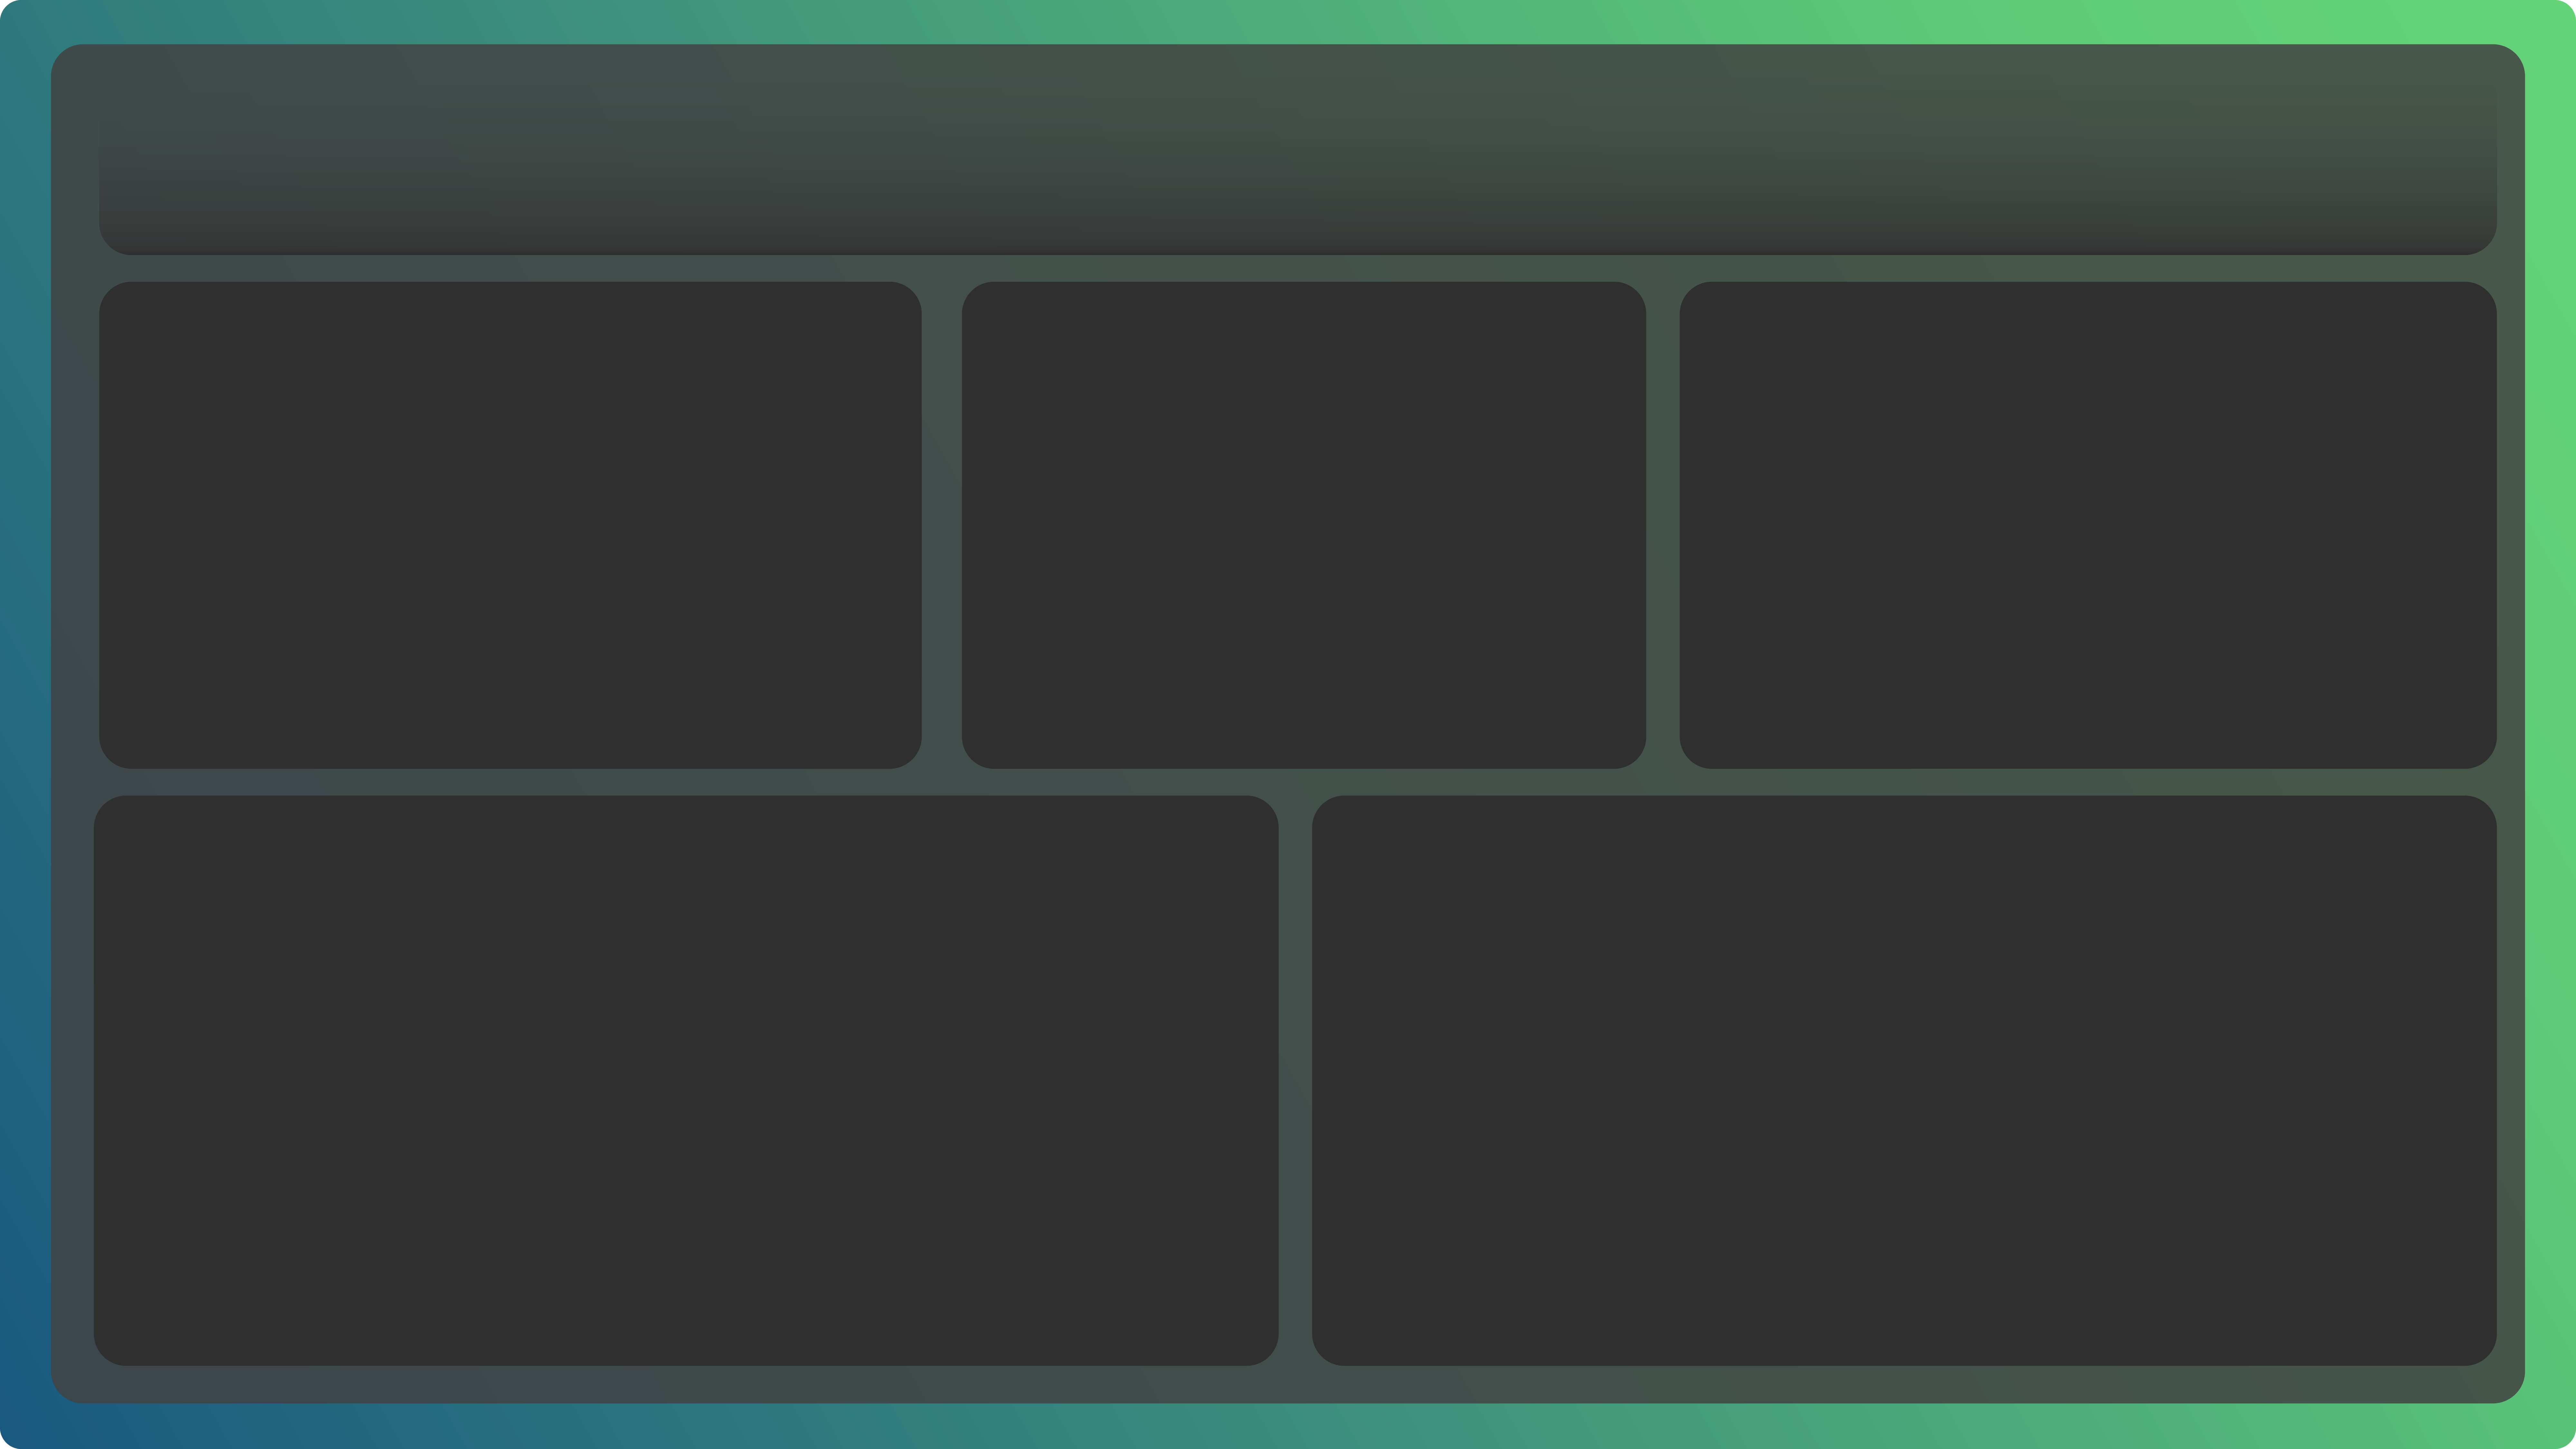

The page's visual inventory and layout, read from the dashboard file:
{"tool":"tableau","page":{"name":"viz","canvas":[1450,950],"ordinal":0},"visuals":[{"type":"image","param":"Image/Dashboard @2x.png","box":[0,0,1450,950]},{"type":"image","param":"Image/Heading @2x.png","box":[85,80,494,50]},{"type":"blank","box":[579,80,362,50]},{"type":"text","box":[941,80,150,25]},{"type":"blank","box":[1091,80,30,50]},{"type":"image","param":"Image/Logo (1).png","box":[1121,80,244,25]},{"type":"worksheet","title":"Toggle Switch","mark":"Shape","rows":["Calculation_66428104941862918"],"box":[941,105,50,25]},{"type":"blank","box":[991,105,100,25]},{"type":"text","box":[1121,105,244,25]},{"type":"text","box":[90,180,110,30]},{"type":"worksheet","title":"Date indicator","mark":"Text","box":[200,180,380,30]},{"type":"text","box":[640,180,338,30]},{"type":"text","box":[978,180,382,30]},{"type":"blank","box":[90,210,490,10]},{"type":"worksheet","title":"Gender","mark":"Pie","rows":["Gender"],"cols":["Calculation_969681346415046657","Calculation_969681346415046657"],"box":[640,210,170,230]},{"type":"blank","box":[810,210,17,230]},{"type":"blank","box":[1057,210,22,230]},{"type":"image","param":"Image/a.png","box":[110,220,40,70]},{"type":"worksheet","title":"KPI 1","mark":"Text","box":[150,220,117,70]},{"type":"image","param":"Image/b.png","box":[267,220,40,70]},{"type":"worksheet","title":"KPI 2","mark":"Text","box":[307,220,117,70]},{"type":"image","param":"Image/c.png","box":[424,220,40,70]},{"type":"worksheet","title":"KPI 3","mark":"Text","box":[464,220,116,70]},{"type":"text","box":[832,220,220,25]},{"type":"worksheet","title":"Education Header","mark":"Text","box":[1089,220,178,25]},{"type":"parameter","param":"[Parameters].[Parameter 2]","box":[1267,220,83,25]},{"type":"worksheet","title":"Age Group","mark":"Bar","rows":["EmployeeCount"],"box":[832,245,220,185]},{"type":"worksheet","title":"Education","mark":"Bar","rows":["Calculation_635570549120753665","Calculation_969681346417168386"],"cols":["vtmin"],"box":[1089,250,260,185]},{"type":"worksheet","title":"Education (A)","mark":"Bar","rows":["Calculation_635570549120753665","Calculation_969681346417168386"],"cols":["vtmin"],"box":[1349,250,1,185]},{"type":"blank","box":[90,290,490,21]},{"type":"worksheet","title":"Department","mark":"Pie","rows":["Department"],"cols":["Calculation_635570549245562889","Calculation_635570549245562889"],"box":[90,311,187,249]},{"type":"blank","box":[277,311,12,249]},{"type":"text","box":[299,321,174,29]},{"type":"parameter","param":"[Parameters].[Parameter 3]","box":[473,321,97,29]},{"type":"worksheet","title":"Job Role","mark":"Shape","rows":["JobRole"],"cols":["Calculation_969681346417168386"],"box":[299,350,271,200]},{"type":"text","box":[640,500,250,30]},{"type":"worksheet","title":"Satisfaction Score- Info","mark":"Shape","cols":["Calculation_17170025537437710"],"box":[890,500,30,30]},{"type":"text","box":[980,500,380,30]},{"type":"worksheet","title":"Satisfaction Score Header","mark":"Text","rows":["Calculation_1632554917652107265"],"cols":["EnvironmentSatisfaction"],"box":[640,530,280,25]},{"type":"text","box":[980,530,56,27]},{"type":"filter","title":"Attrition Detail","param":"[federated.05j07o51a9v3ul13aijys15hxtp7].[none:Calculation_635570549291978795:nk","box":[1036,530,106.5,27]},{"type":"blank","box":[1142.5,530,32,27]},{"type":"text","box":[1174.5,530,79,27]},{"type":"filter","title":"Attrition Detail","param":"[federated.05j07o51a9v3ul13aijys15hxtp7].[my:Attrition Date:ok]","box":[1253.5,530,106.5,27]},{"type":"worksheet","title":"Attrition Detail","mark":"Text","rows":["EmployeeNumber","Attrition Date"],"cols":["Calculation_635570549295177775","Calculation_635570549299482675","Calculation_635570549295177775"],"box":[980,557,380,303]},{"type":"blank","box":[90,560,490,20]},{"type":"worksheet","title":"Environment Satisfaction ","mark":"Square","rows":["Calculation_635570549282226201"],"cols":["EnvironmentSatisfaction"],"box":[646,561,268,49]},{"type":"text","box":[100,590,265,25]},{"type":"text","box":[365,590,95,25]},{"type":"worksheet","title":"Trend - Toggle Buttons","mark":"Shape","cols":["Period Selector"],"box":[460,590,110,25]},{"type":"worksheet","title":"Trend - % Difference","mark":"Text","box":[100,615,470,25]},{"type":"worksheet","title":"Job Satisfaction ","mark":"Square","rows":["Calculation_1632554917660635139"],"cols":["JobSatisfaction"],"box":[646,622,268,49]},{"type":"worksheet","title":"Attrition Trend- M","mark":"Bar","rows":["EmployeeCount"],"cols":["Attrition Date"],"box":[100,645,467,173]},{"type":"worksheet","title":"Attrition Trend- Y","mark":"Bar","rows":["EmployeeCount"],"cols":["Attrition Date"],"box":[567,645,1,173]},{"type":"worksheet","title":"Attrition Trend- Q","mark":"Bar","rows":["EmployeeCount"],"cols":["Attrition Date"],"box":[568,645,1,173]},{"type":"worksheet","title":"Attrition Trend- W","mark":"Bar","rows":["EmployeeCount"],"cols":["Attrition Date"],"box":[569,645,1,173]},{"type":"worksheet","title":"Job Involvement ","mark":"Square","rows":["Calculation_635570549283553314"],"cols":["JobInvolvement"],"box":[646,683,268,49]},{"type":"worksheet","title":"Relationship Satisfaction ","mark":"Square","rows":["Calculation_635570549283098655"],"cols":["RelationshipSatisfaction"],"box":[646,744,268,49]},{"type":"blank","box":[104,797,48,22]},{"type":"worksheet","title":"Work Life Balance","mark":"Square","rows":["Calculation_635570549284532261"],"cols":["WorkLifeBalance"],"box":[646,805,268,49]},{"type":"text","box":[90,838,340,22]},{"type":"worksheet","title":"IIB Awards","mark":"Shape","rows":["Calculation_892557189511622660"],"box":[430,838,30,22]},{"type":"dashboard-object","box":[460,838,30,22]},{"type":"dashboard-object","box":[490,838,30,22]},{"type":"image","param":"Image/Twitter.png","box":[520,838,30,22]},{"type":"image","param":"Image/Data source.png","box":[550,838,30,22]}]}

Visuals, with their boxes on the page's 1450x950 design canvas (x1, y1, x2, y2). These are canvas units, not pixel positions in the 2576x1449 screenshot, which may show the page scaled, cropped or inside an application window:
image: [0, 0, 1450, 950]
image: [85, 80, 579, 130]
blank: [579, 80, 941, 130]
text: [941, 80, 1091, 105]
blank: [1091, 80, 1121, 130]
image: [1121, 80, 1365, 105]
"Toggle Switch" worksheet (Shape marks): [941, 105, 991, 130]
blank: [991, 105, 1091, 130]
text: [1121, 105, 1365, 130]
text: [90, 180, 200, 210]
"Date indicator" worksheet (Text marks): [200, 180, 580, 210]
text: [640, 180, 978, 210]
text: [978, 180, 1360, 210]
blank: [90, 210, 580, 220]
"Gender" worksheet (Pie marks): [640, 210, 810, 440]
blank: [810, 210, 827, 440]
blank: [1057, 210, 1079, 440]
image: [110, 220, 150, 290]
"KPI 1" worksheet (Text marks): [150, 220, 267, 290]
image: [267, 220, 307, 290]
"KPI 2" worksheet (Text marks): [307, 220, 424, 290]
image: [424, 220, 464, 290]
"KPI 3" worksheet (Text marks): [464, 220, 580, 290]
text: [832, 220, 1052, 245]
"Education Header" worksheet (Text marks): [1089, 220, 1267, 245]
parameter: [1267, 220, 1350, 245]
"Age Group" worksheet (Bar marks): [832, 245, 1052, 430]
"Education" worksheet (Bar marks): [1089, 250, 1349, 435]
"Education (A)" worksheet (Bar marks): [1349, 250, 1350, 435]
blank: [90, 290, 580, 311]
"Department" worksheet (Pie marks): [90, 311, 277, 560]
blank: [277, 311, 289, 560]
text: [299, 321, 473, 350]
parameter: [473, 321, 570, 350]
"Job Role" worksheet (Shape marks): [299, 350, 570, 550]
text: [640, 500, 890, 530]
"Satisfaction Score- Info" worksheet (Shape marks): [890, 500, 920, 530]
text: [980, 500, 1360, 530]
"Satisfaction Score Header" worksheet (Text marks): [640, 530, 920, 555]
text: [980, 530, 1036, 557]
"Attrition Detail" filter: [1036, 530, 1142, 557]
blank: [1142, 530, 1174, 557]
text: [1174, 530, 1254, 557]
"Attrition Detail" filter: [1254, 530, 1360, 557]
"Attrition Detail" worksheet (Text marks): [980, 557, 1360, 860]
blank: [90, 560, 580, 580]
"Environment Satisfaction " worksheet (Square marks): [646, 561, 914, 610]
text: [100, 590, 365, 615]
text: [365, 590, 460, 615]
"Trend - Toggle Buttons" worksheet (Shape marks): [460, 590, 570, 615]
"Trend - % Difference" worksheet (Text marks): [100, 615, 570, 640]
"Job Satisfaction " worksheet (Square marks): [646, 622, 914, 671]
"Attrition Trend- M" worksheet (Bar marks): [100, 645, 567, 818]
"Attrition Trend- Y" worksheet (Bar marks): [567, 645, 568, 818]
"Attrition Trend- Q" worksheet (Bar marks): [568, 645, 569, 818]
"Attrition Trend- W" worksheet (Bar marks): [569, 645, 570, 818]
"Job Involvement " worksheet (Square marks): [646, 683, 914, 732]
"Relationship Satisfaction " worksheet (Square marks): [646, 744, 914, 793]
blank: [104, 797, 152, 819]
"Work Life Balance" worksheet (Square marks): [646, 805, 914, 854]
text: [90, 838, 430, 860]
"IIB Awards" worksheet (Shape marks): [430, 838, 460, 860]
dashboard-object: [460, 838, 490, 860]
dashboard-object: [490, 838, 520, 860]
image: [520, 838, 550, 860]
image: [550, 838, 580, 860]
